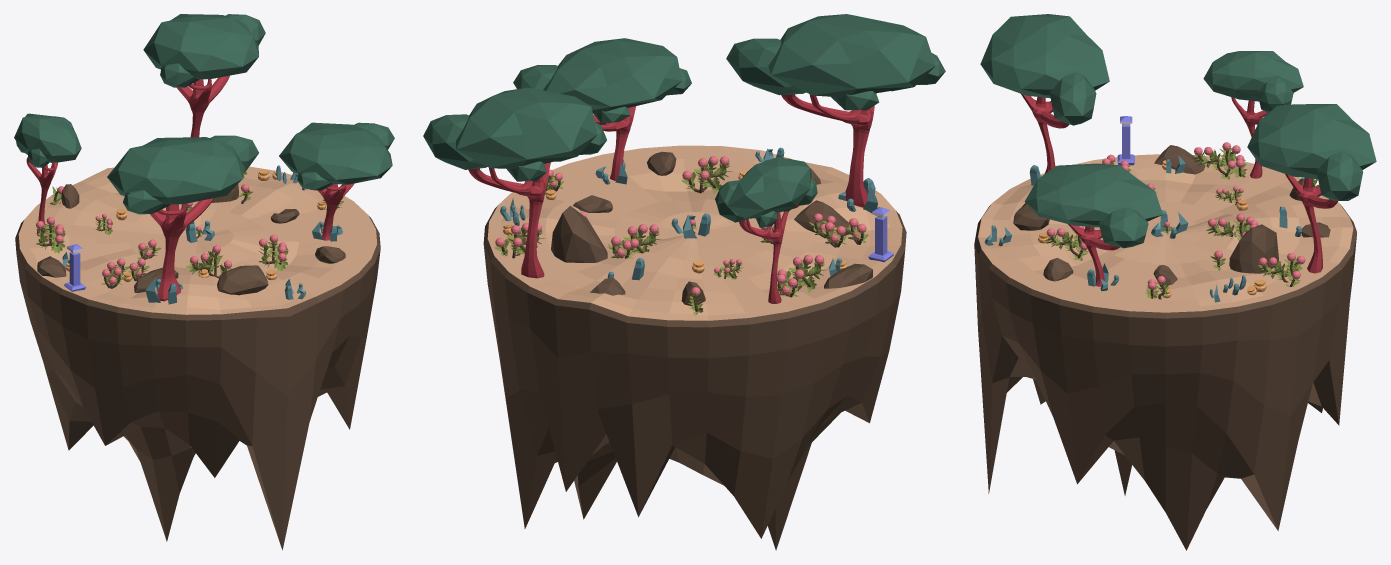
The model's file is island_1.glb.
3 views of the same model, side by side, from view 1: azimuth 30°, elevation 25°; view 2: azimuth 150°, elevation 25°; view 3: azimuth 270°, elevation 25° (orthographic). The views are drawn at different scales.
Visible parts, largest first — view 1: environnement, tree.04, tree_01, tree.03, tree_02, cailloux_05, flower_006, flower_001, flower_008, pillar, cailloux_08; view 2: environnement, tree.04, tree_01, tree.03, tree_02, cailloux_06, flower_001, flower_008, cailloux_01, cailloux_08, pillar, flower_017 (+1 smaller); view 3: environnement, tree.04, tree_01, tree.03, tree_02, cailloux_06, flower_008, flower_017, cailloux_08, flower_001, flower_010, cailloux_05 (+2 smaller).
Boxes of the visible parts, box(x1,y1,x2,y2) form: environnement: box(15, 166, 380, 550); tree.04: box(107, 135, 258, 301); tree_01: box(143, 14, 265, 137); tree.03: box(279, 122, 394, 240); tree_02: box(14, 113, 81, 236); cailloux_05: box(217, 265, 268, 295); flower_006: box(186, 245, 231, 278); flower_001: box(258, 234, 288, 271); flower_008: box(36, 217, 65, 253); pillar: box(64, 244, 85, 291); cailloux_08: box(37, 256, 66, 277); environnement: box(483, 145, 906, 550); tree.04: box(726, 14, 945, 207); tree_01: box(423, 87, 606, 278); tree.03: box(513, 38, 691, 180); tree_02: box(715, 157, 817, 303); cailloux_06: box(551, 205, 607, 262); flower_001: box(681, 156, 732, 193); flower_008: box(777, 254, 827, 292); cailloux_01: box(794, 200, 850, 235); cailloux_08: box(824, 263, 872, 288); pillar: box(868, 207, 893, 262); flower_017: box(494, 223, 545, 258); environnement: box(974, 154, 1356, 550); tree.04: box(980, 14, 1109, 173); tree_01: box(1247, 104, 1376, 273); tree.03: box(1024, 163, 1162, 286); tree_02: box(1203, 51, 1303, 178); cailloux_06: box(1229, 224, 1278, 273); flower_008: box(1192, 142, 1240, 179); flower_017: box(1257, 253, 1305, 286); cailloux_08: box(1154, 145, 1205, 174); flower_001: box(1045, 226, 1088, 260); flower_010: box(1206, 213, 1254, 240); cailloux_05: box(1013, 203, 1049, 230).
Size of the model in its own units: 20.88 by 26.05 by 21.02.
